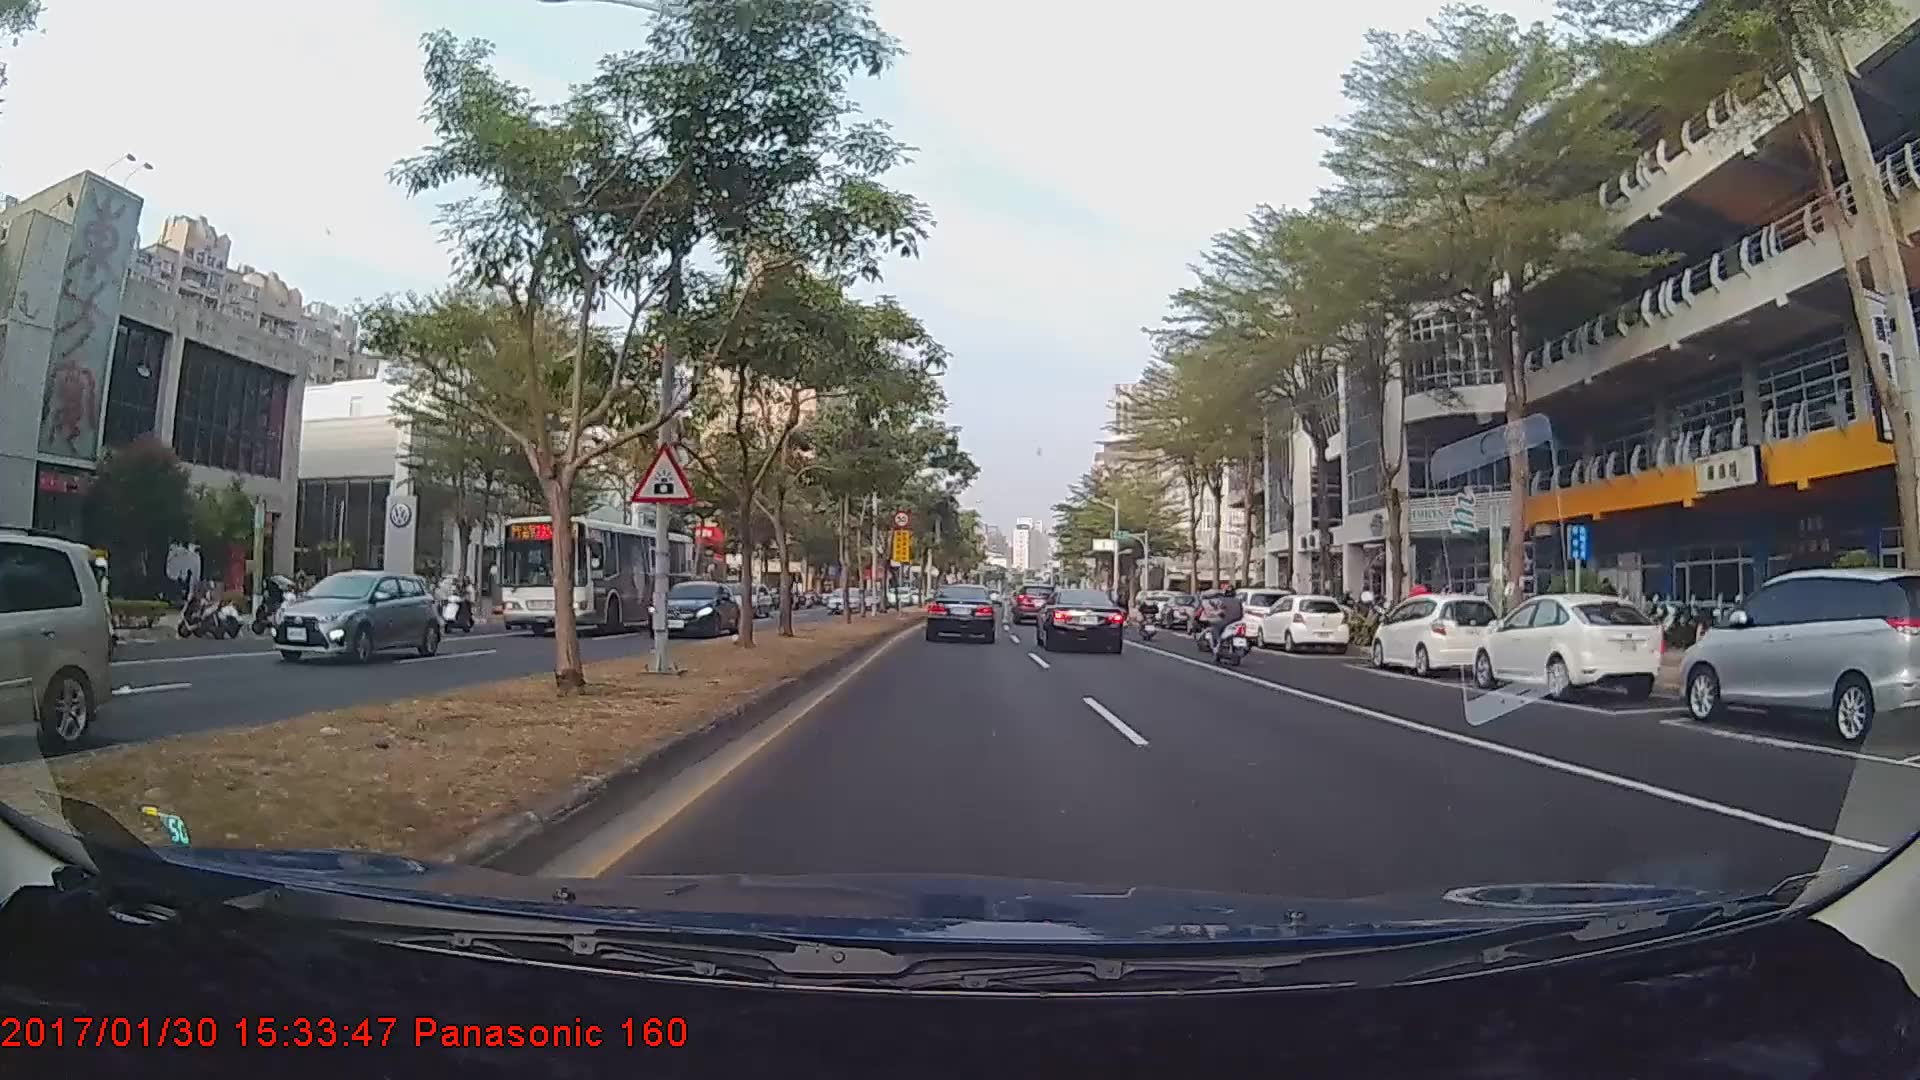rider: (1203, 582, 1257, 668), (1194, 589, 1237, 652), (438, 577, 483, 636), (1138, 586, 1164, 642)
vehicle: (1676, 568, 1920, 744), (0, 529, 115, 757), (499, 515, 697, 637), (1470, 592, 1661, 701), (265, 569, 440, 663), (1372, 593, 1503, 676), (1035, 586, 1126, 655), (1254, 592, 1348, 653), (649, 577, 738, 636), (1207, 583, 1294, 639), (925, 582, 998, 644), (718, 582, 771, 619), (1011, 583, 1057, 623), (822, 583, 864, 611)
